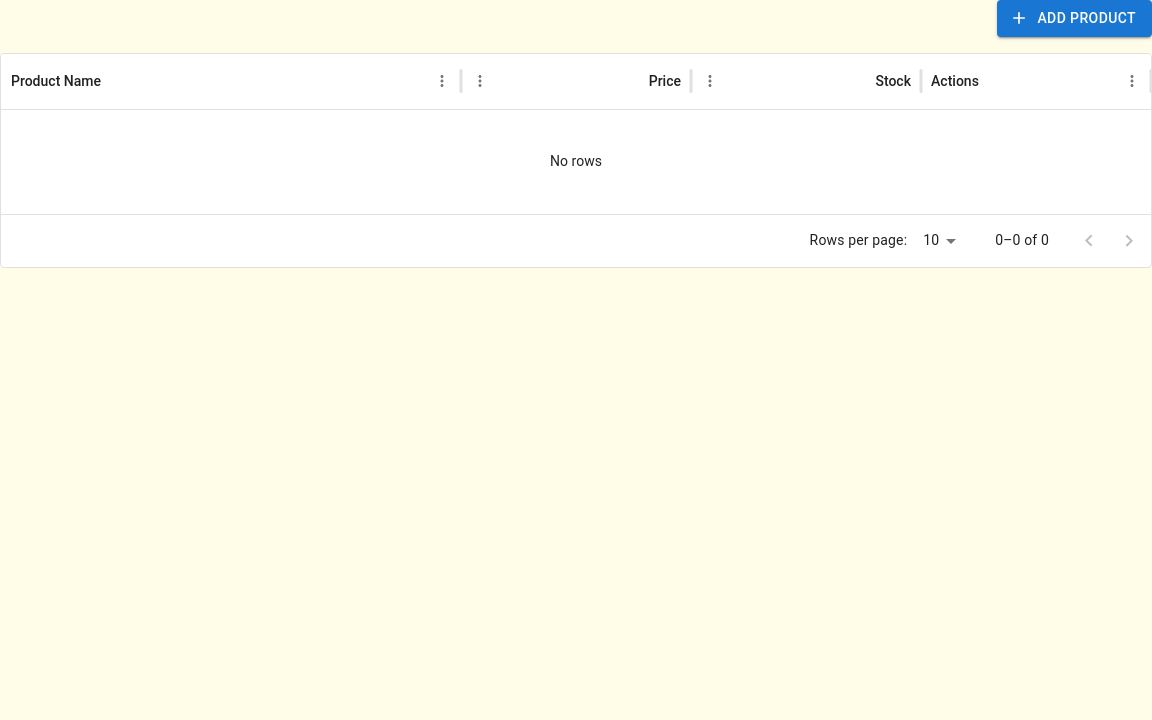
Test: Product Table › opens form modal when Add Product clicked
This screenshot has width=1152, height=720.
What coordinates should you click on to do the following:
click the button "Add Product"
I would click on:
 (1075, 18)
Its box is top-left (997, 0), bottom-right (1151, 36).
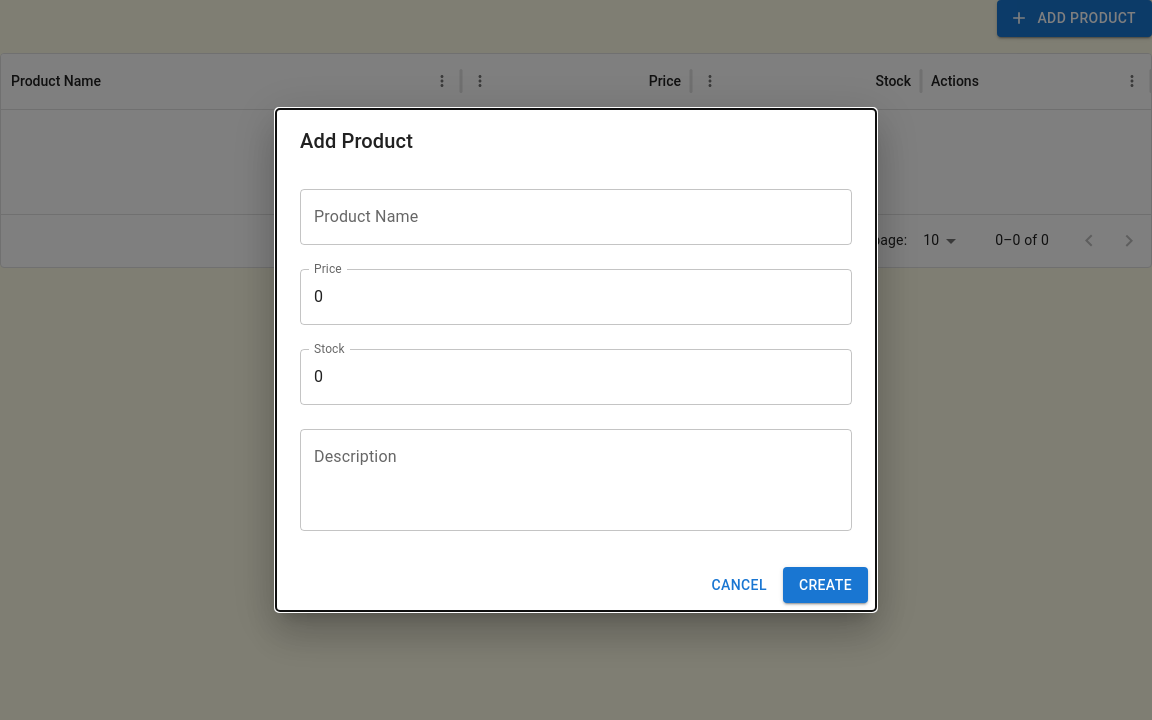
Expected: the dialog is shown, top-left (276, 109), bottom-right (876, 611)
